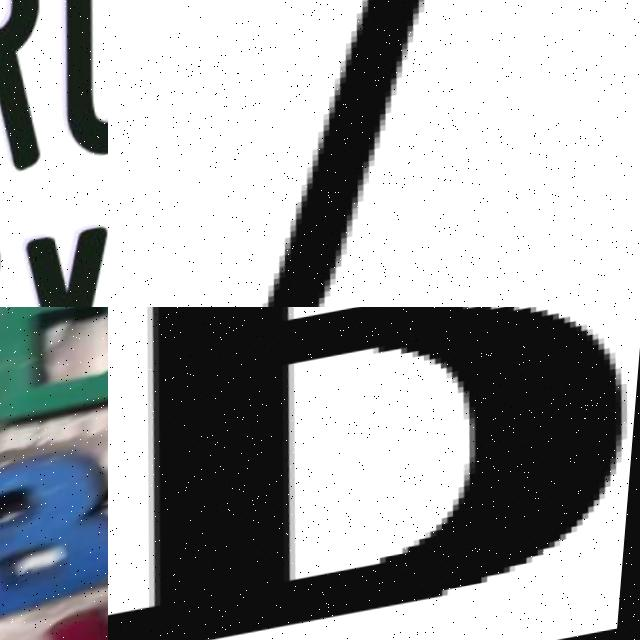0: (42, 0, 108, 185)
B: (108, 307, 633, 640), (0, 447, 108, 638)
D: (0, 307, 108, 441)
J: (108, 0, 590, 307)
R: (0, 0, 55, 197)
X: (8, 230, 108, 307)
